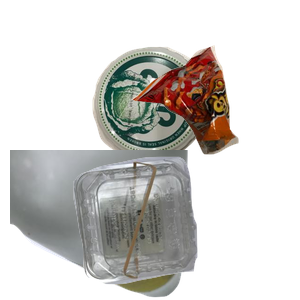glass: (10, 150, 190, 300)
metal: (90, 44, 289, 195)
plastic: (71, 154, 300, 300)
trash: (130, 43, 300, 190)
